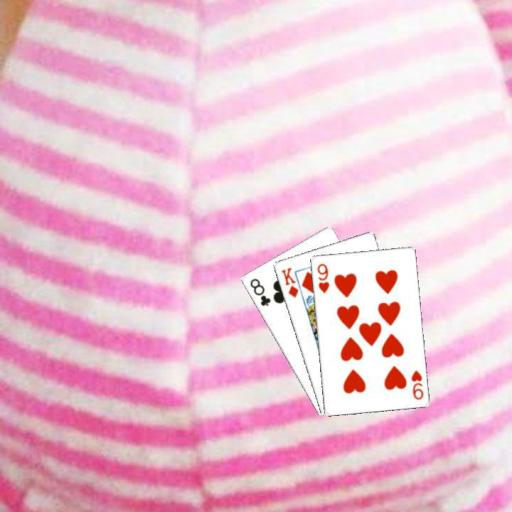8C: (247, 275, 272, 308)
9H: (408, 367, 425, 401), (314, 261, 330, 295)
KD: (278, 265, 299, 300)
